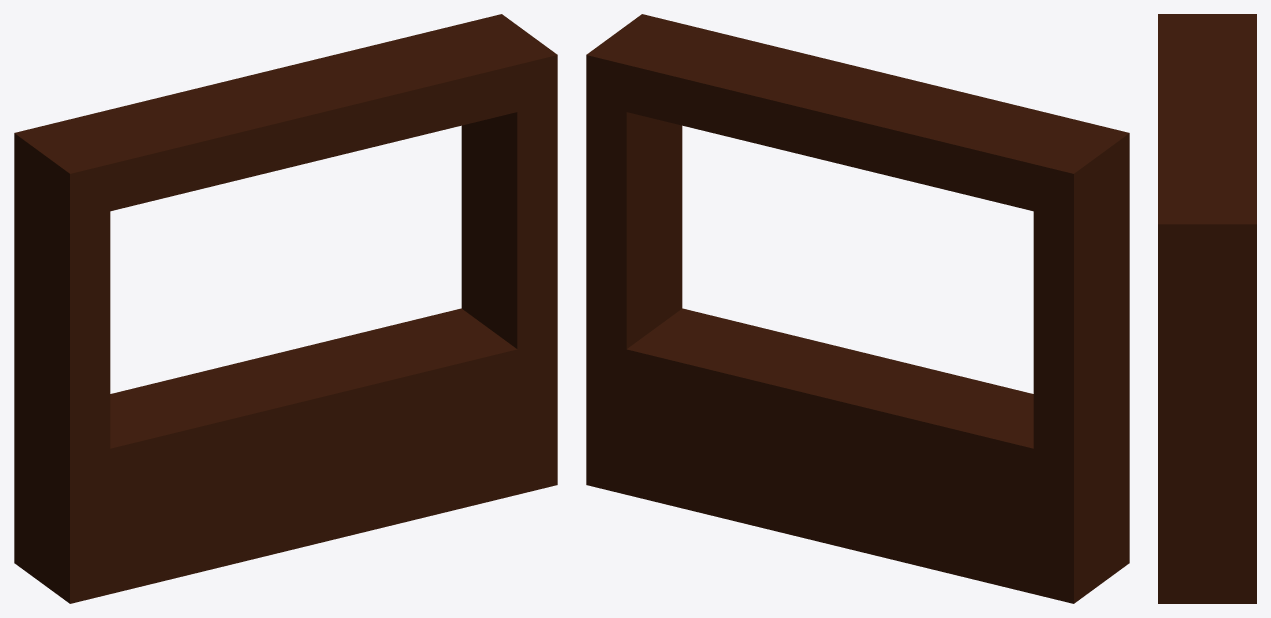
File: Saloon_001_Wall_002.fbx
3 renders of one model, left to right at view 1: azimuth 30°, elevation 25°; view 2: azimuth 150°, elevation 25°; view 3: azimuth 270°, elevation 25°, orthographic. The views are drawn at different scales.
Visible parts, largest first — view 1: Saloon_001_Wall_002; view 2: Saloon_001_Wall_002; view 3: Saloon_001_Wall_002.
Boxes of the visible parts, left/top/right/bottom form: Saloon_001_Wall_002: left=14, top=14, right=557, bottom=603; Saloon_001_Wall_002: left=586, top=14, right=1129, bottom=603; Saloon_001_Wall_002: left=1158, top=14, right=1256, bottom=603.
Size of the model in its own units: 503 by 424 by 100.
